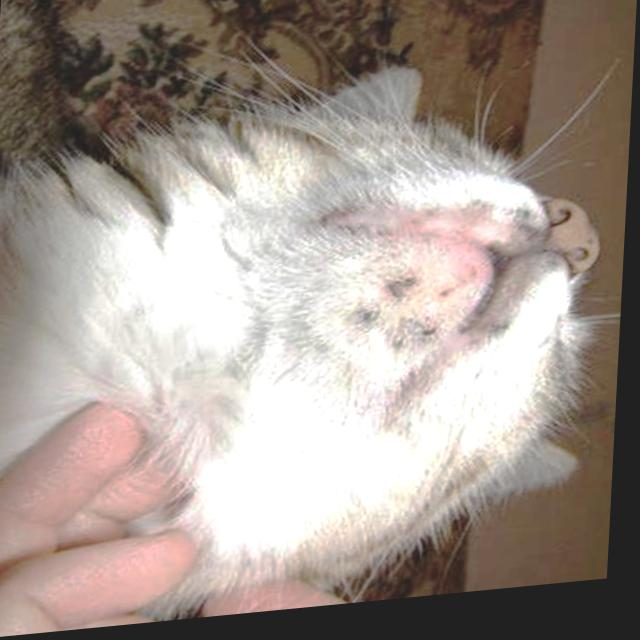acne: (355, 276, 439, 367)
